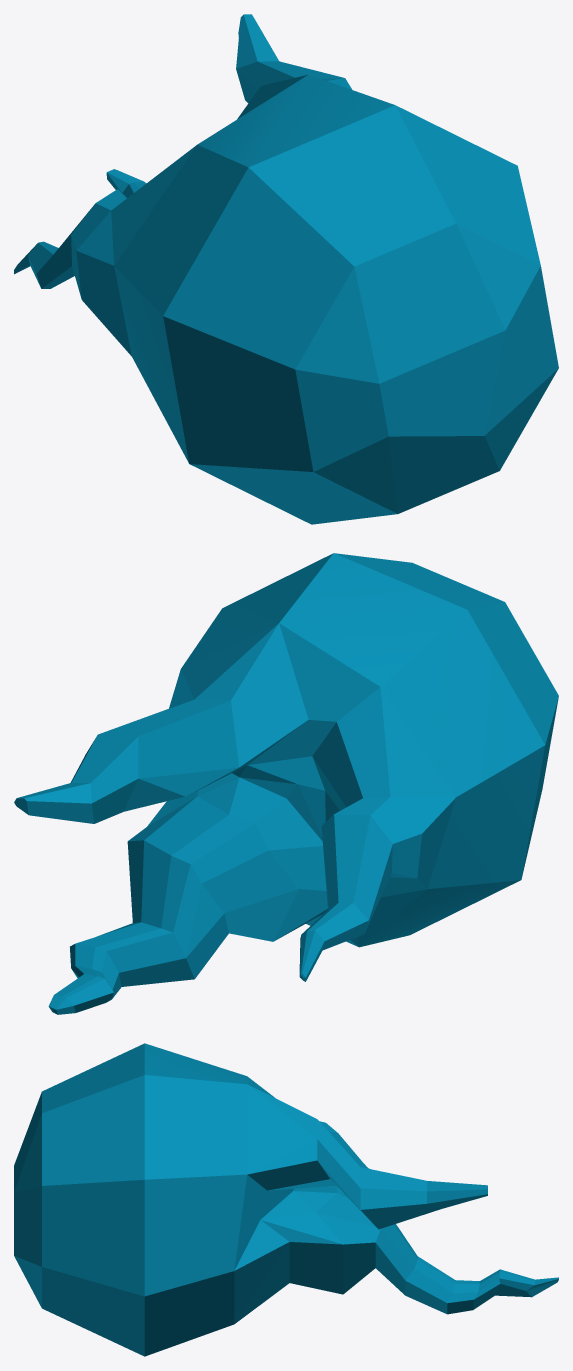
The model's file is Fireball_attack.fbx.
The picture shows the model from 3 angles, top to bottom: view 1: azimuth 30°, elevation 25°; view 2: azimuth 150°, elevation 25°; view 3: azimuth 270°, elevation 25°; orthographic projection. The views are drawn at different scales.
Parts seen in each view (by area): view 1: SM_fireball_03; view 2: SM_fireball_03; view 3: SM_fireball_03.
Part boxes in pixels (x1,y1,x2,y2): SM_fireball_03: [14, 14, 558, 524]; SM_fireball_03: [14, 553, 558, 1014]; SM_fireball_03: [14, 1043, 558, 1356].
Bounding box in the file's own units: 16.17 × 16.2 × 28.71.
